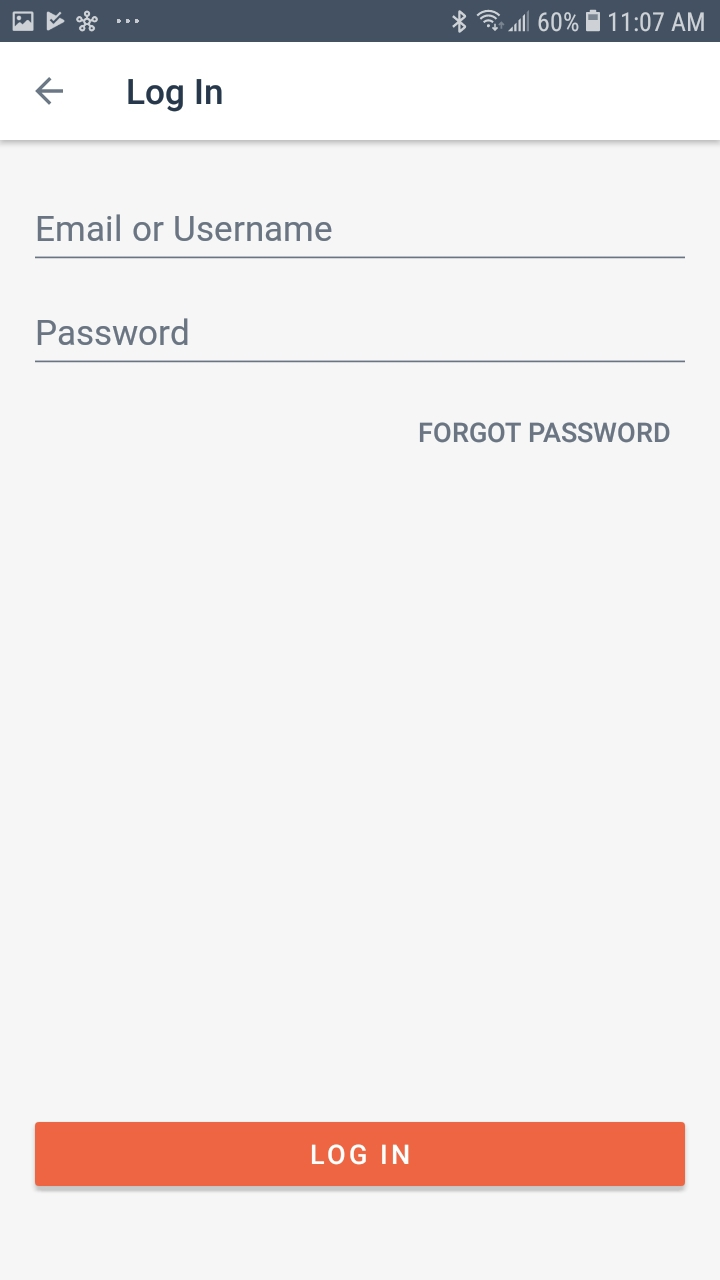EditText: (36, 318, 686, 364), (36, 215, 686, 260)
Icon: (36, 78, 64, 106)
Text: (37, 215, 332, 243), (420, 422, 670, 444), (38, 318, 189, 347), (128, 79, 223, 113)
TextButton: (36, 1121, 686, 1186)
UpperTaskBar: (1, 1, 720, 43)
